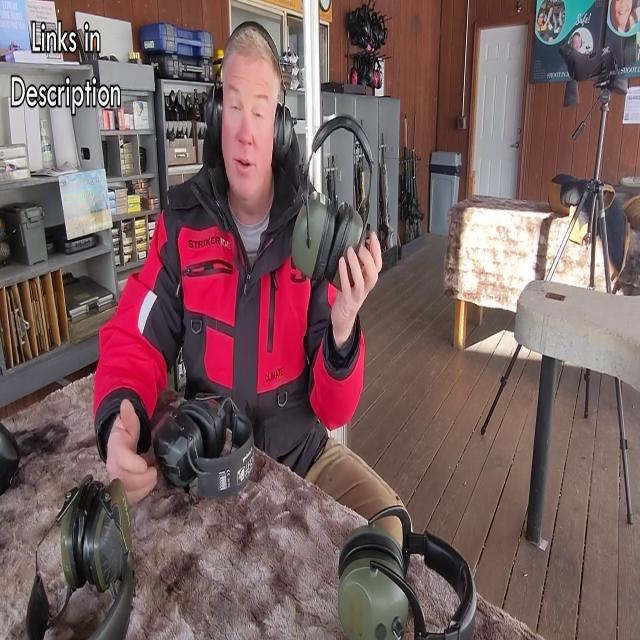earmuff: (290, 190, 338, 287), (272, 99, 300, 177), (202, 78, 227, 154)
